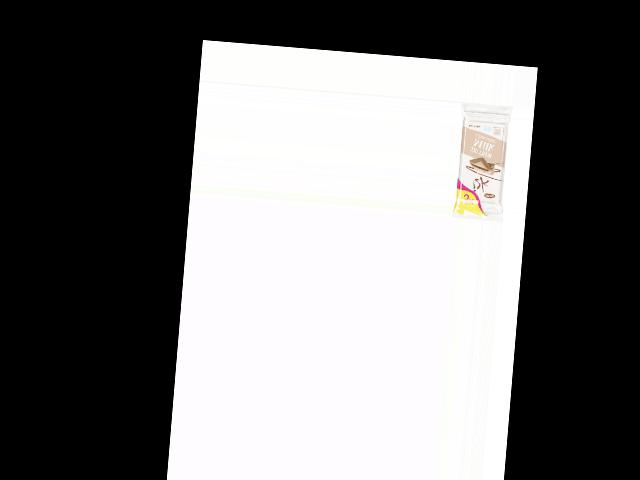chocolate: (452, 113, 512, 222)
